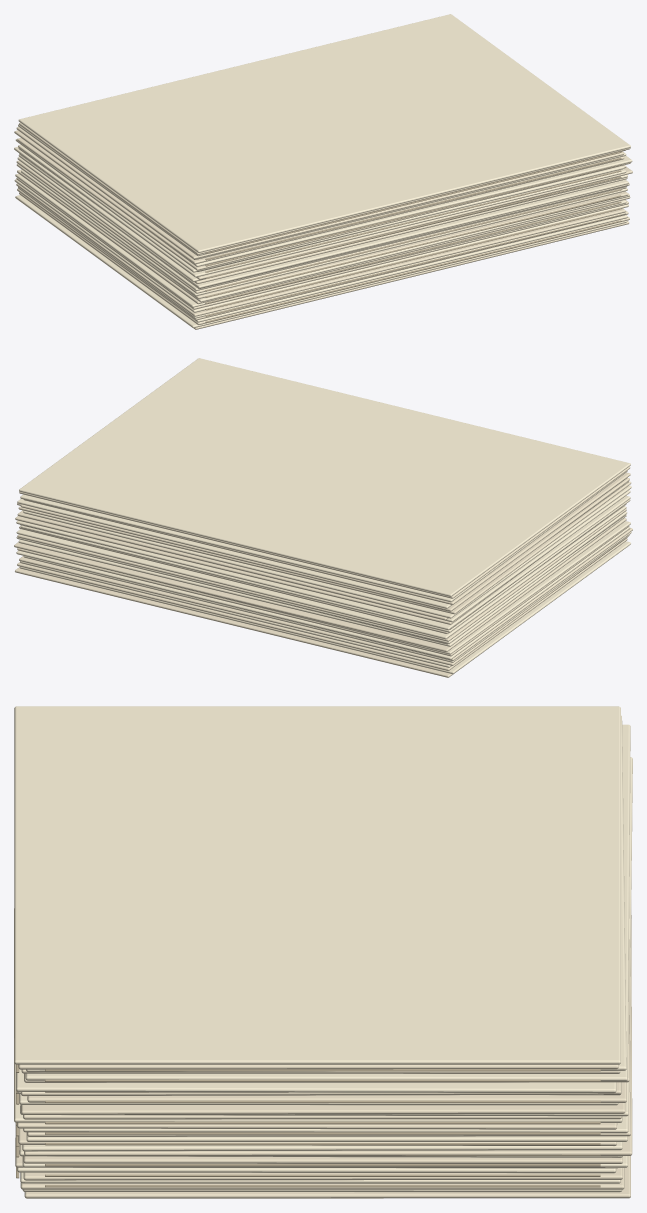
Rendered from stackperkamen.fbx.
The picture shows the model from 3 angles, top to bottom: view 1: azimuth 30°, elevation 25°; view 2: azimuth 150°, elevation 25°; view 3: azimuth 270°, elevation 25°; orthographic projection. The views are drawn at different scales.
Visible parts, largest first — view 1: Lembar_Kertas_32, Lembar_Kertas_18, Lembar_Kertas_22, Lembar_Kertas_07, Lembar_Kertas_10, Lembar_Kertas_27, Lembar_Kertas_02, Lembar_Kertas_29, Lembar_Kertas_26, Lembar_Kertas_12, Lembar_Kertas_24, Lembar_Kertas_25 (+30 smaller); view 2: Lembar_Kertas_32, Lembar_Kertas_16, Lembar_Kertas_11, Lembar_Kertas_20, Lembar_Kertas_08, Lembar_Kertas_24, Lembar_Kertas_30, Lembar_Kertas_28, Lembar_Kertas_02, Lembar_Kertas_01, Lembar_Kertas_05, Lembar_Kertas_03 (+17 smaller); view 3: Lembar_Kertas_32, Lembar_Kertas_26, Lembar_Kertas_28, Lembar_Kertas_21, Lembar_Kertas_01, Lembar_Kertas_09, Lembar_Kertas_11, Lembar_Kertas_05, Lembar_Kertas_12, Lembar_Kertas_23, Lembar_Kertas_14, Lembar_Kertas_31 (+28 smaller).
Part boxes in pixels (x1,y1,x2,y2): Lembar_Kertas_32: [18, 14, 630, 252]; Lembar_Kertas_18: [18, 154, 628, 288]; Lembar_Kertas_22: [18, 144, 626, 277]; Lembar_Kertas_07: [16, 183, 625, 316]; Lembar_Kertas_10: [15, 173, 626, 307]; Lembar_Kertas_27: [14, 130, 624, 264]; Lembar_Kertas_02: [15, 195, 627, 328]; Lembar_Kertas_29: [16, 127, 623, 259]; Lembar_Kertas_26: [126, 156, 632, 266]; Lembar_Kertas_12: [21, 170, 629, 302]; Lembar_Kertas_24: [15, 138, 623, 272]; Lembar_Kertas_25: [17, 138, 630, 270]; Lembar_Kertas_32: [19, 358, 630, 596]; Lembar_Kertas_16: [16, 506, 626, 639]; Lembar_Kertas_11: [14, 518, 626, 651]; Lembar_Kertas_20: [16, 495, 630, 630]; Lembar_Kertas_08: [16, 526, 630, 659]; Lembar_Kertas_24: [23, 485, 631, 618]; Lembar_Kertas_30: [20, 470, 627, 602]; Lembar_Kertas_28: [17, 478, 626, 608]; Lembar_Kertas_02: [19, 541, 630, 674]; Lembar_Kertas_01: [15, 567, 453, 677]; Lembar_Kertas_05: [19, 535, 629, 665]; Lembar_Kertas_03: [17, 538, 627, 670]; Lembar_Kertas_32: [14, 706, 620, 1064]; Lembar_Kertas_26: [16, 1069, 616, 1093]; Lembar_Kertas_28: [25, 724, 630, 1081]; Lembar_Kertas_21: [21, 1103, 625, 1114]; Lembar_Kertas_01: [24, 1156, 630, 1198]; Lembar_Kertas_09: [23, 1156, 622, 1163]; Lembar_Kertas_11: [24, 915, 632, 1156]; Lembar_Kertas_05: [23, 1168, 622, 1180]; Lembar_Kertas_12: [22, 1142, 622, 1151]; Lembar_Kertas_23: [27, 1082, 626, 1102]; Lembar_Kertas_14: [26, 1132, 627, 1141]; Lembar_Kertas_31: [18, 1064, 618, 1069].
Bounding box in the file's own units: 326 × 57.6 × 236.
